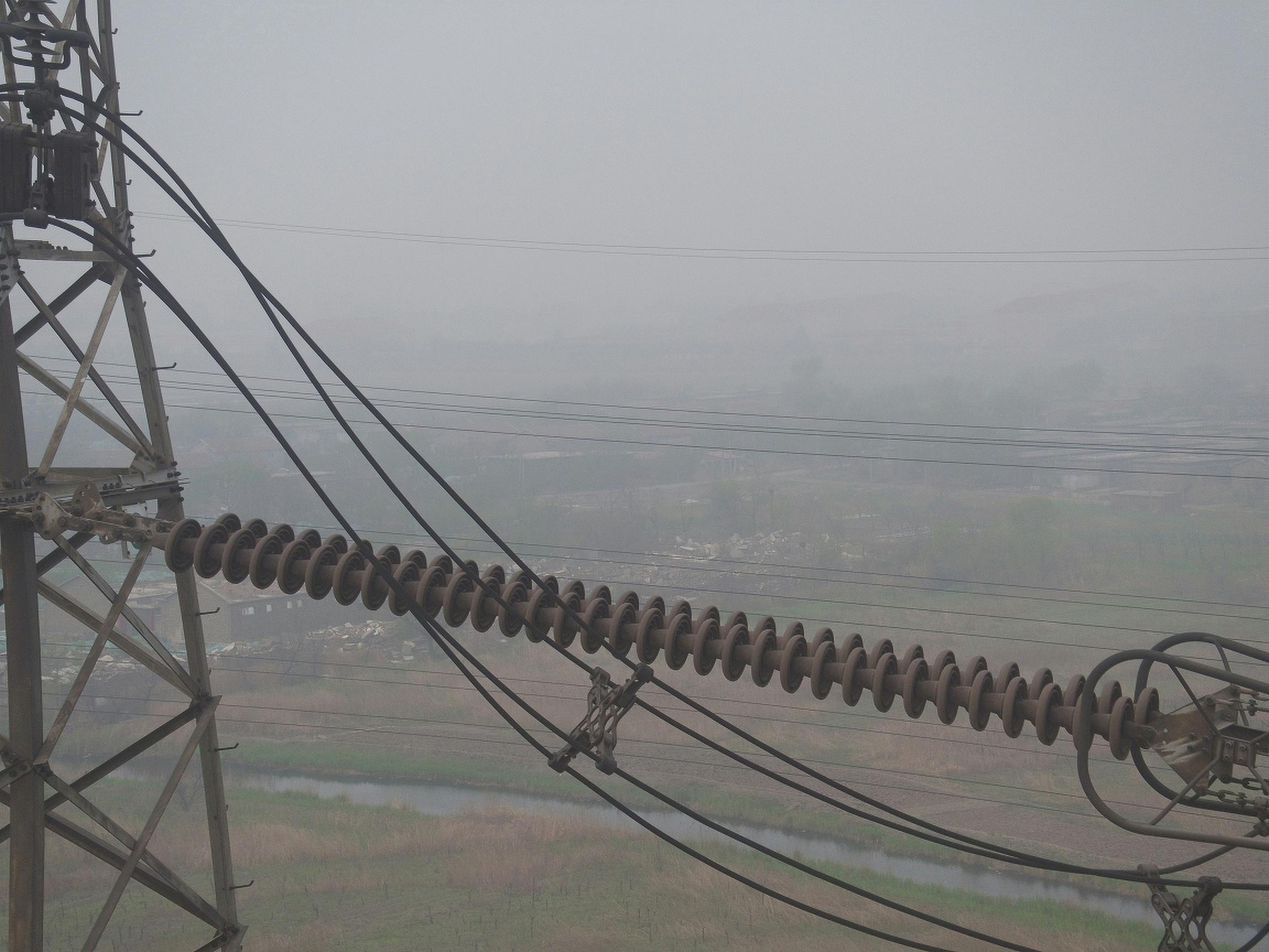insulator: (159, 507, 1165, 764)
